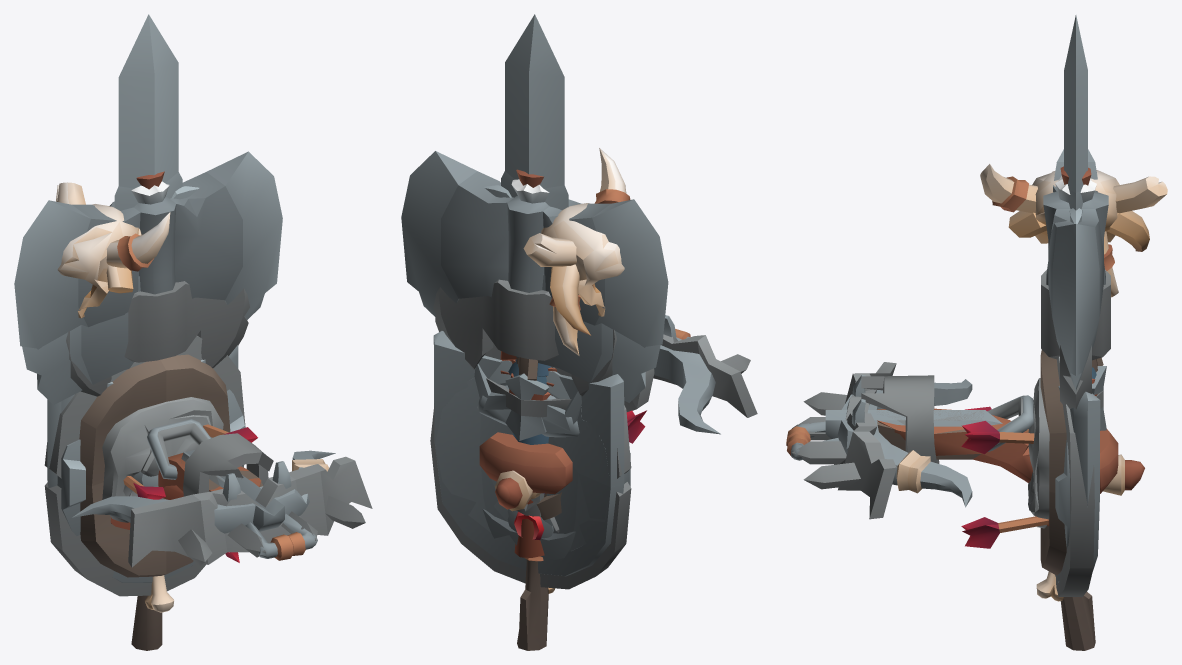
The model's file is weapons.glb.
The picture shows the model from 3 angles, left to right: view 1: azimuth 30°, elevation 25°; view 2: azimuth 150°, elevation 25°; view 3: azimuth 270°, elevation 25°; orthographic projection.
Parts seen in each view (by area): view 1: W_greataxe, W_sk_shield_large, W_sk_crossbow, W_sk_staff, W_crossbow, W_greatsword, W_sk_axe, W_axe, W_sk_shield_small, W_shield_badge, W_sk_shield_small_b, W_sword; view 2: W_greataxe, W_shield_badge, W_greatsword, W_sk_staff, W_sk_axe, W_sk_shield_large, W_shield_round, W_crossbow, W_axe, W_sk_crossbow, W_sk_shield_small, W_sk_blade (+1 smaller); view 3: W_sk_crossbow, W_crossbow, W_sk_shield_large, W_greataxe, W_sk_staff, W_greatsword, W_sk_axe, W_sk_shield_small_b, W_shield_badge, W_sk_shield_small.
Part boxes in pixels (x1,y1,x2,y2): W_greataxe: [14, 151, 282, 349]; W_sk_shield_large: [44, 336, 245, 596]; W_sk_crossbow: [128, 423, 372, 567]; W_sk_staff: [56, 182, 174, 650]; W_crossbow: [72, 419, 335, 560]; W_greatsword: [118, 14, 178, 188]; W_sk_axe: [66, 281, 249, 396]; W_axe: [22, 276, 140, 404]; W_sk_shield_small: [57, 389, 244, 535]; W_shield_badge: [47, 345, 238, 582]; W_sk_shield_small_b: [123, 424, 257, 562]; W_sword: [114, 172, 182, 210]; W_greataxe: [401, 151, 668, 557]; W_shield_badge: [433, 331, 624, 576]; W_greatsword: [474, 14, 581, 540]; W_sk_staff: [517, 148, 630, 650]; W_sk_axe: [433, 279, 616, 516]; W_sk_shield_large: [430, 344, 631, 589]; W_shield_round: [435, 377, 610, 551]; W_crossbow: [495, 315, 720, 511]; W_axe: [516, 275, 660, 402]; W_sk_crossbow: [624, 334, 757, 417]; W_sk_shield_small: [482, 360, 630, 559]; W_sk_blade: [484, 185, 571, 532]; W_sk_crossbow: [792, 362, 1022, 519]; W_crossbow: [786, 375, 1144, 507]; W_sk_shield_large: [1028, 350, 1118, 596]; W_greataxe: [1043, 149, 1108, 390]; W_sk_staff: [980, 164, 1167, 650]; W_greatsword: [1064, 15, 1106, 430]; W_sk_axe: [1041, 269, 1110, 409]; W_sk_shield_small_b: [961, 406, 1048, 548]; W_shield_badge: [1055, 385, 1100, 582]; W_sk_shield_small: [1055, 440, 1070, 548].
Bounding box in the file's own units: 1.24 × 2.81 × 1.53.
Materials: 16 (16 with a texture image).
